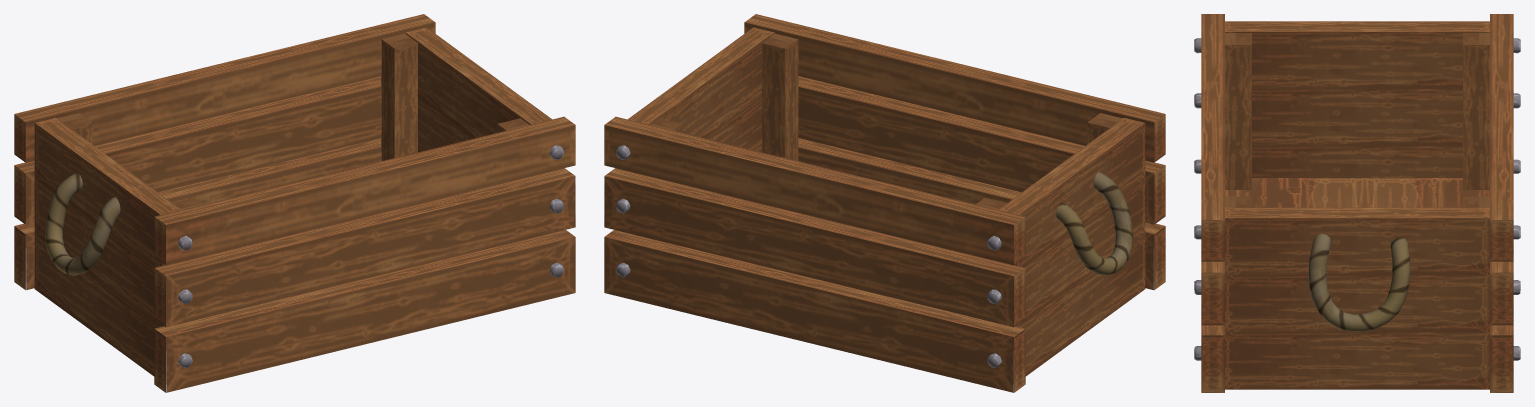
The model's file is FarmCrate_Empty.gltf.
The picture shows the model from 3 angles, left to right: view 1: azimuth 30°, elevation 25°; view 2: azimuth 150°, elevation 25°; view 3: azimuth 270°, elevation 25°; orthographic projection. The views are drawn at different scales.
Parts seen in each view (by area): view 1: FarmCrate_Empty; view 2: FarmCrate_Empty; view 3: FarmCrate_Empty.
Boxes of the visible parts, left/top/right/bottom form: FarmCrate_Empty: left=14, top=14, right=575, bottom=392; FarmCrate_Empty: left=604, top=14, right=1165, bottom=392; FarmCrate_Empty: left=1194, top=14, right=1520, bottom=392.
Bounding box in the file's own units: 0.7138 × 0.2438 × 0.4142.
2 materials, 2 textured.
